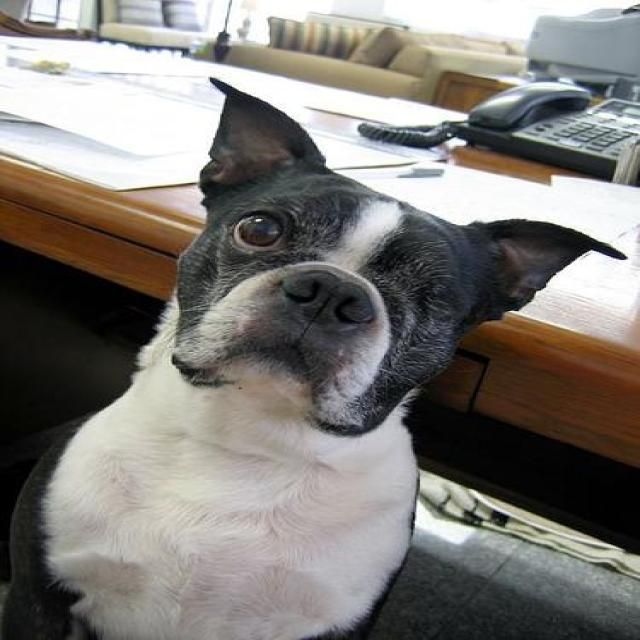relax: (24, 33, 640, 640)
